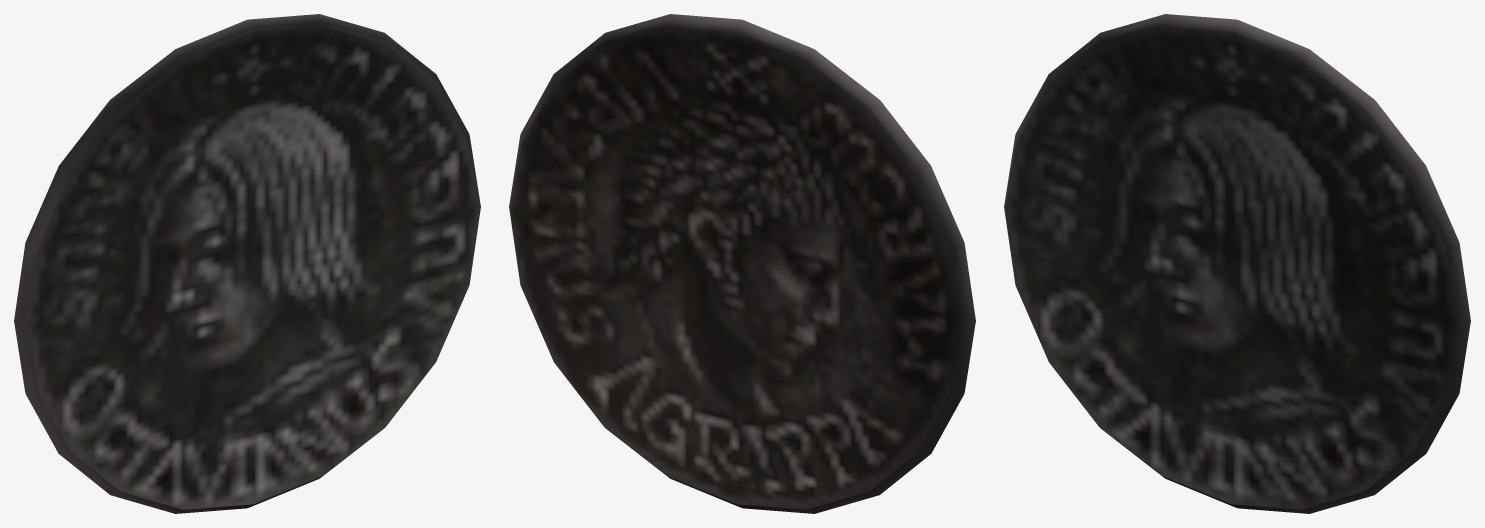
The model's file is sor_nml.ico.obj.
3 renders of one model, left to right at view 1: azimuth 30°, elevation 25°; view 2: azimuth 150°, elevation 25°; view 3: azimuth 330°, elevation 25°, orthographic.
Size of the model in its own units: 3.87 by 3.87 by 0.168.
1 material, 1 textured.
